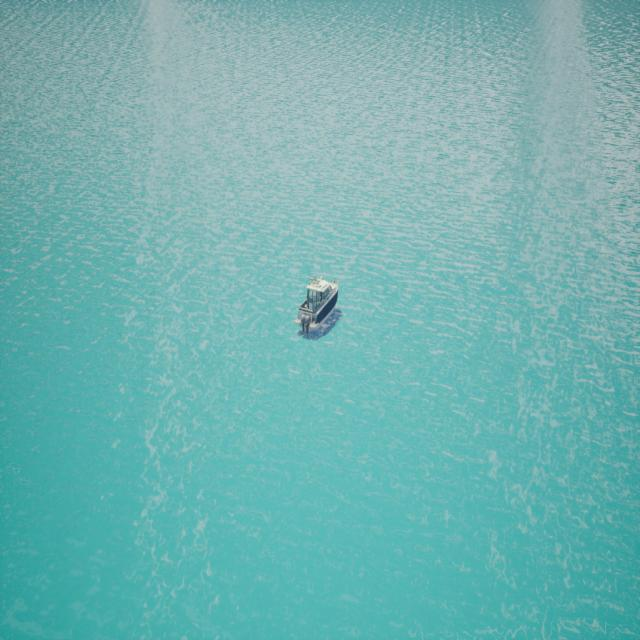ship: (294, 272, 342, 338)
